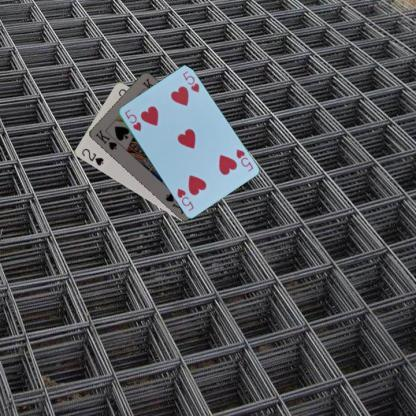2s: (80, 146, 104, 168)
5h: (232, 146, 254, 173), (122, 107, 142, 132)
Ks: (92, 127, 118, 151)
